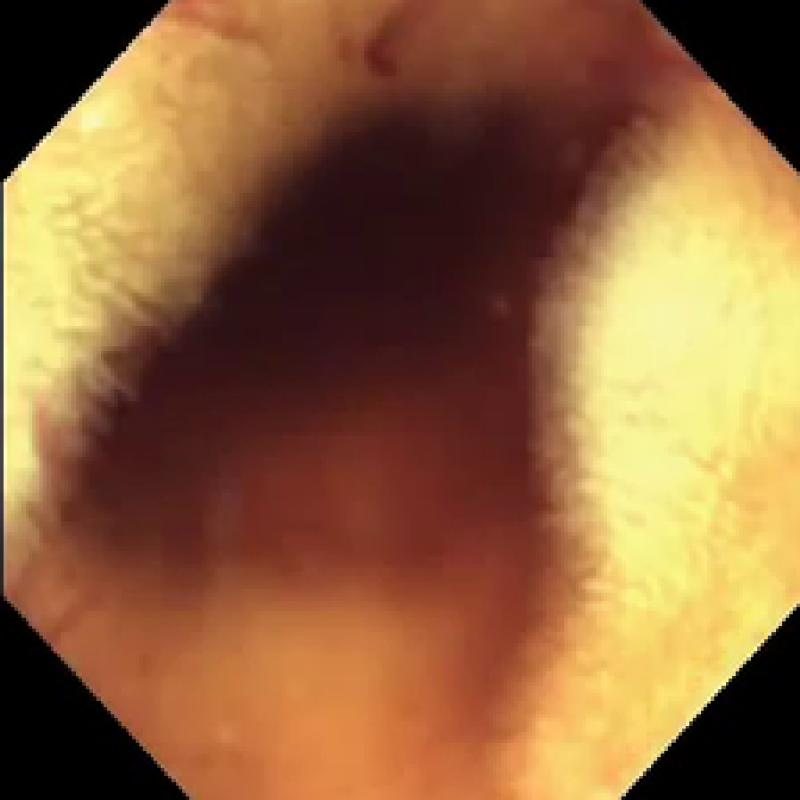bleeding: (54, 0, 658, 800)
